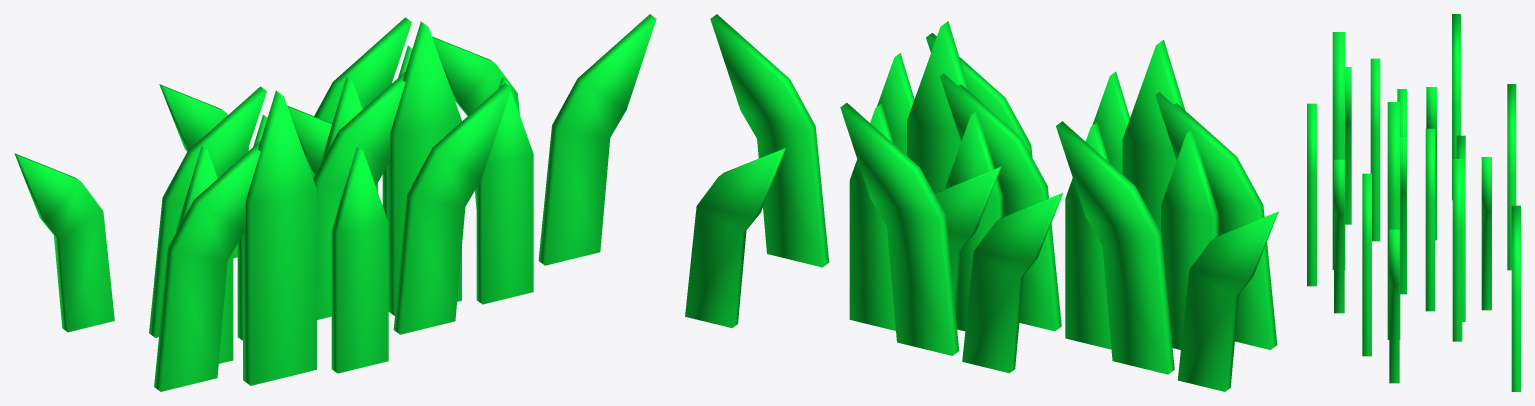
Rendered from Grama.fbx.
3 views of the same model, side by side, from view 1: azimuth 30°, elevation 25°; view 2: azimuth 150°, elevation 25°; view 3: azimuth 270°, elevation 25° (orthographic). The views are drawn at different scales.
Parts seen in each view (by area): view 1: Grama; view 2: Grama; view 3: Grama.
Boxes of the visible parts, bbox=[...] form: Grama: bbox=[14, 14, 656, 391]; Grama: bbox=[685, 14, 1278, 391]; Grama: bbox=[1307, 14, 1520, 391].
Size of the model in its own units: 140 by 62.99 by 54.22.
